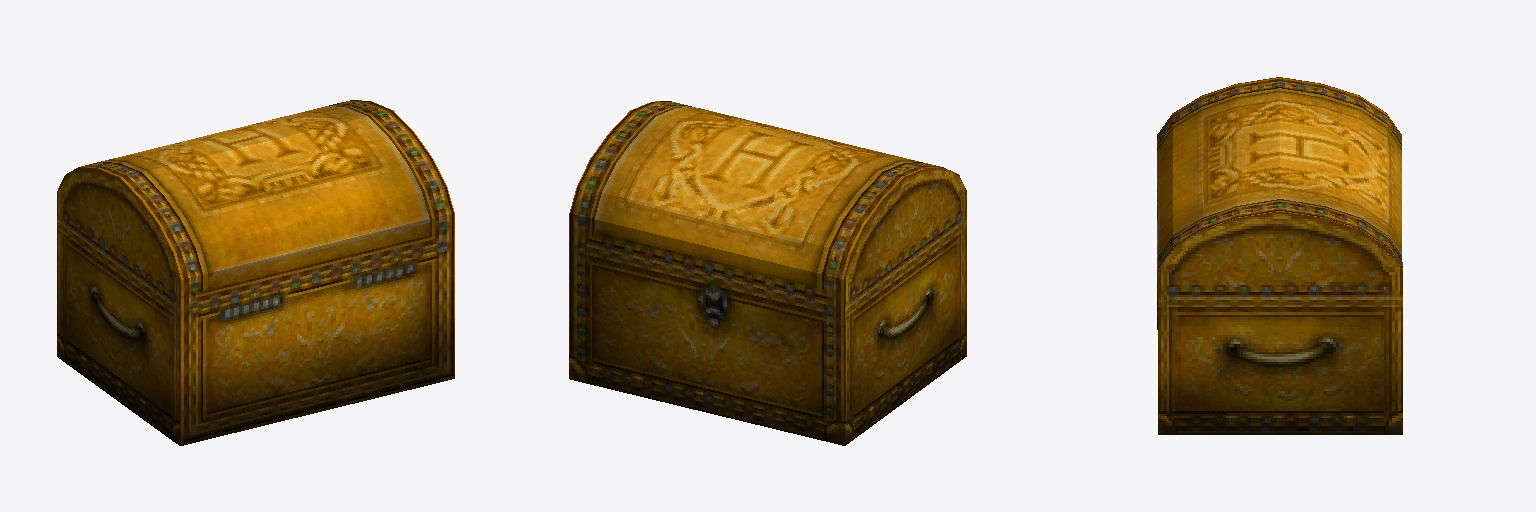
3 views of the same model, side by side, from view 1: azimuth 30°, elevation 25°; view 2: azimuth 150°, elevation 25°; view 3: azimuth 270°, elevation 25° (orthographic).
Parts seen in each view (by area): view 1: material_0; view 2: material_0; view 3: material_0.
Part boxes in pixels (left/top/right/bottom): material_0: left=57, top=100, right=454, bottom=445; material_0: left=569, top=101, right=966, bottom=445; material_0: left=1157, top=77, right=1402, bottom=434.
Bounding box in the file's own units: 31.27 × 24.26 × 24.11.
Materials: 1 (1 with a texture image).